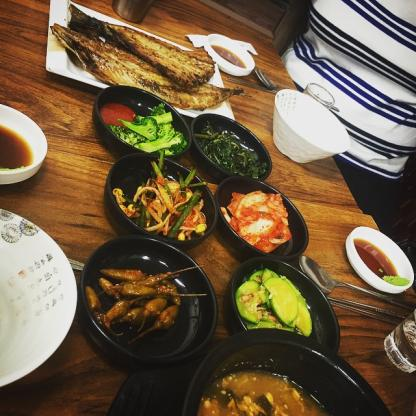Peixe: (41, 17, 245, 107)
